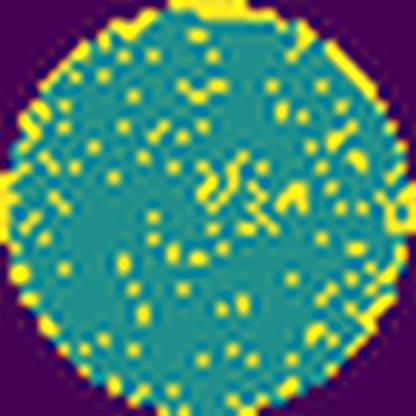Edge-Loc: (165, 0, 288, 39), (371, 180, 416, 240)
